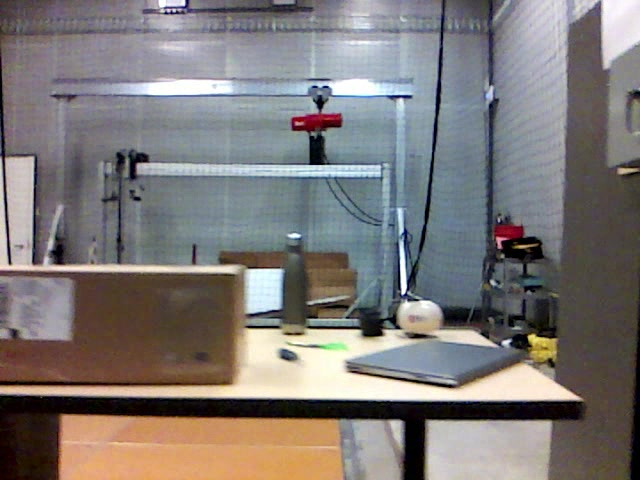box: (1, 267, 246, 387)
